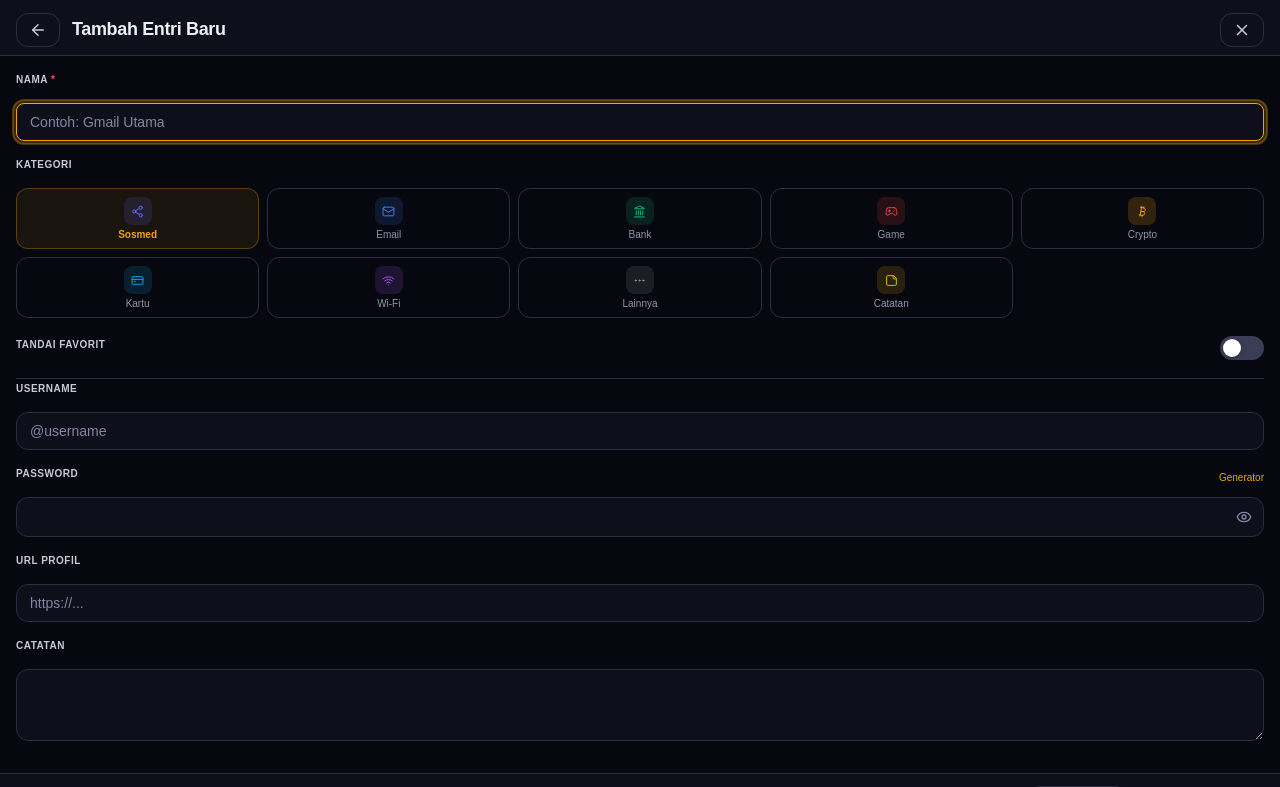
Test: EntryForm — Verifikasi 2 Langkah kategori Email (v1.10.0) › section Verifikasi 2 Langkah muncul setelah pindah ke kategori Email
Click the button titled "Email" at x=389, y=218, box [267, 188, 510, 249]
(page scrolled)
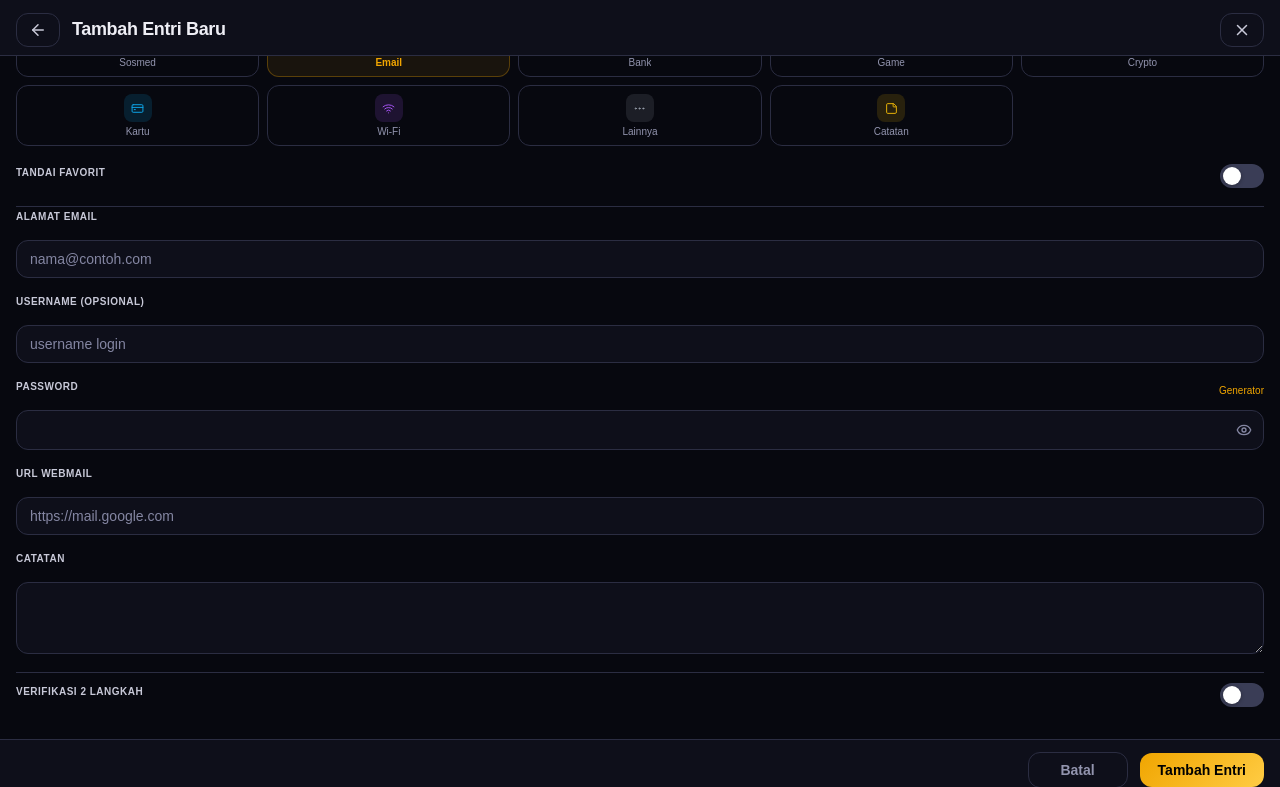
Result: the text "Verifikasi 2 Langkah" is shown at [16, 684, 143, 698]
